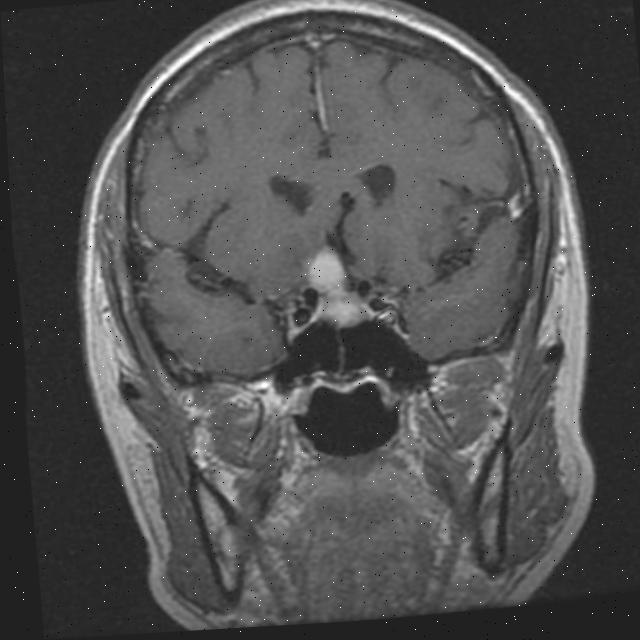Pituitary: (302, 240, 373, 332)
